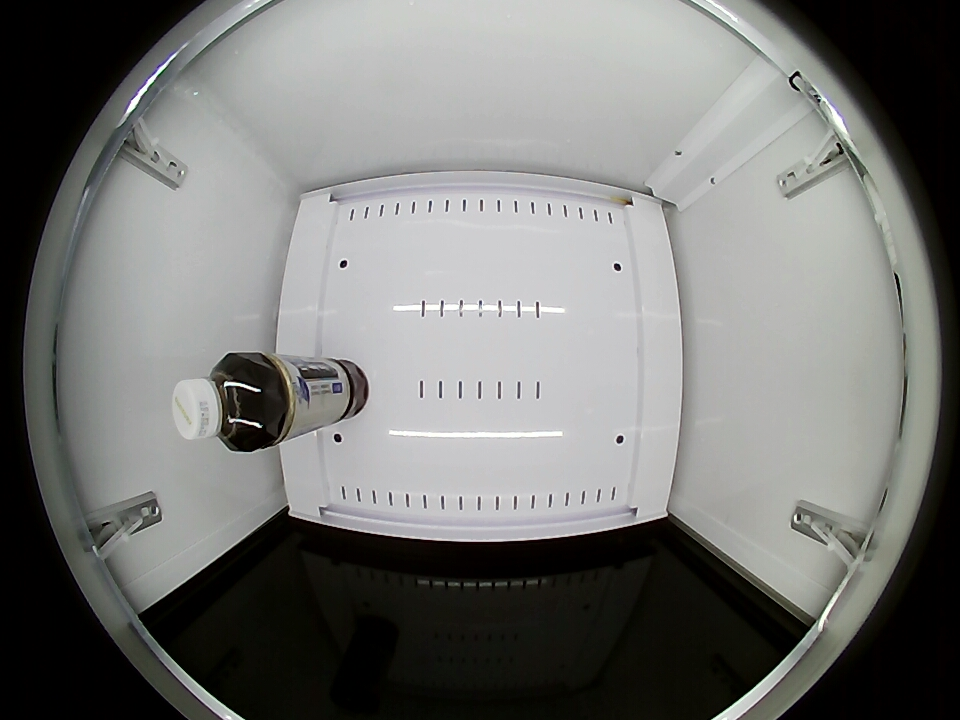wulongcha: (172, 353, 273, 452)
